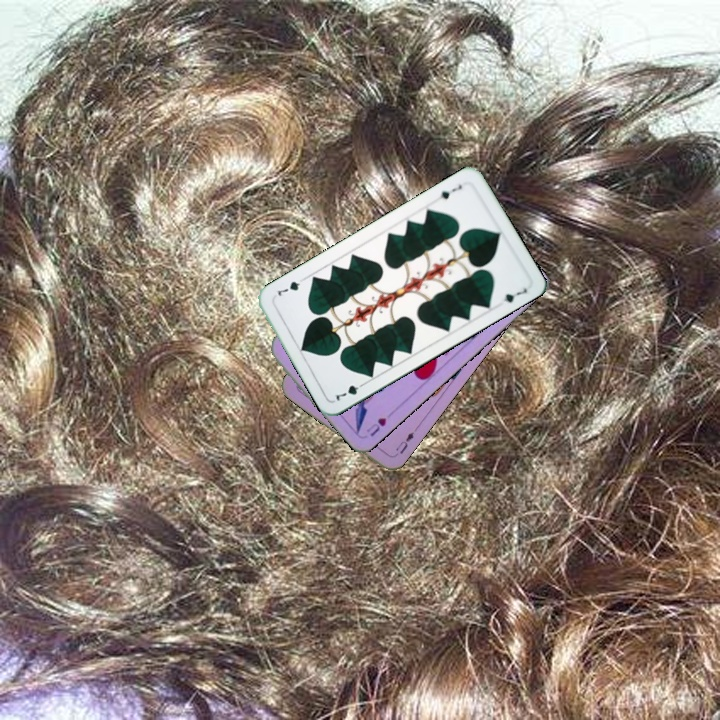EU: (390, 424, 420, 459)
G7: (329, 378, 368, 404), (432, 180, 465, 204)
HU: (362, 413, 389, 439)
